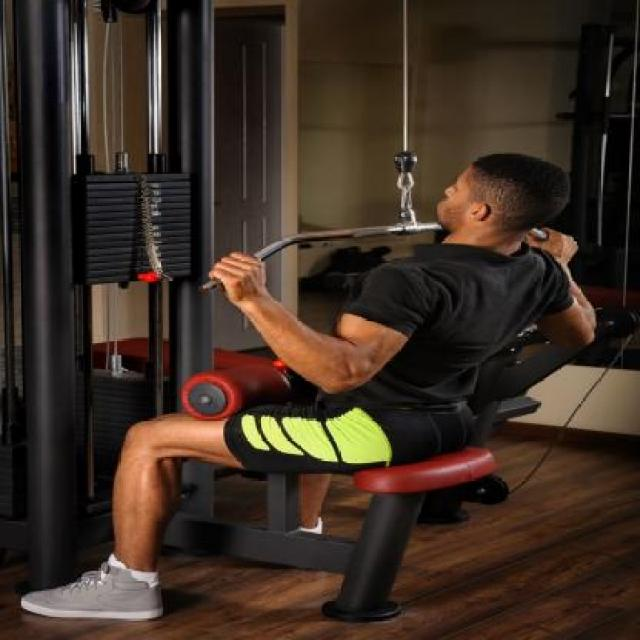Lat Pull Down: (17, 0, 620, 640)
